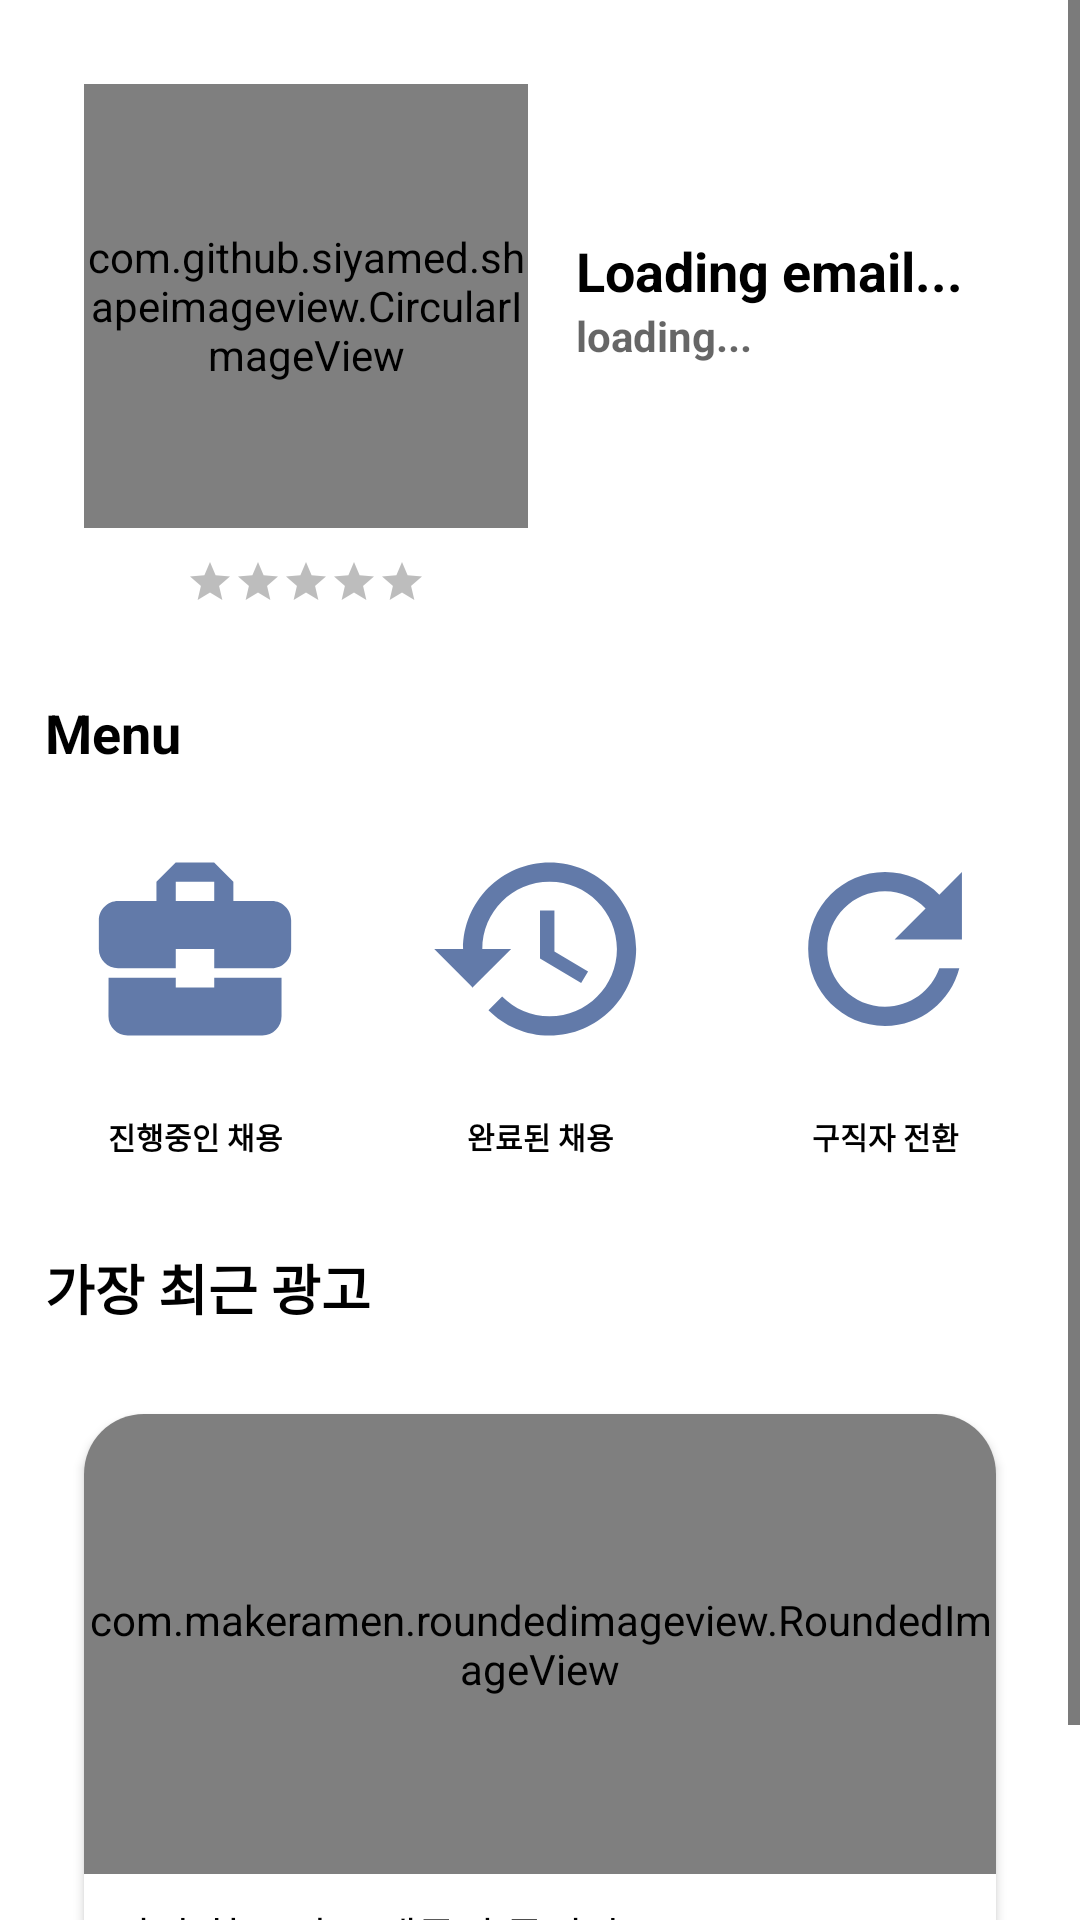

Screen size 1080 × 1920. Icon name, then its box in pixels as rect(x1, y1, x2, y2):
changemode: rect(808, 872, 962, 1026)
